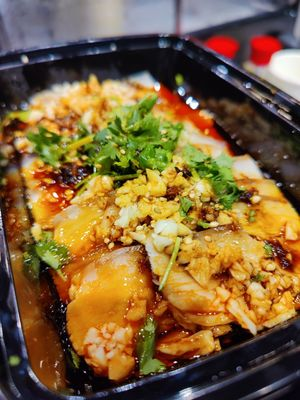sandwich: (1, 70, 300, 394)
